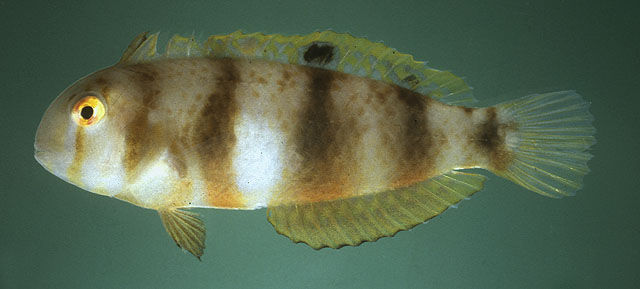fish: (33, 29, 597, 264)
